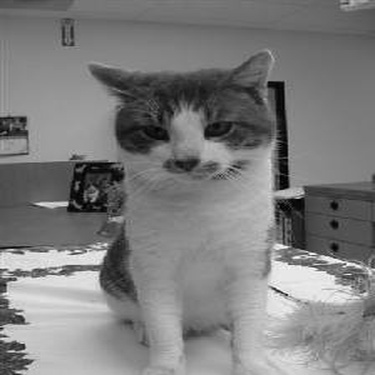cat: (61, 48, 298, 359)
